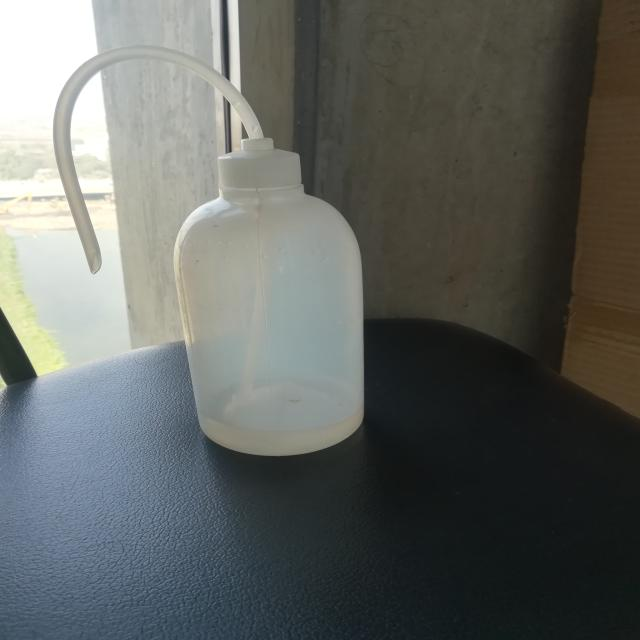Wash_Bottle: (5, 23, 406, 485)
